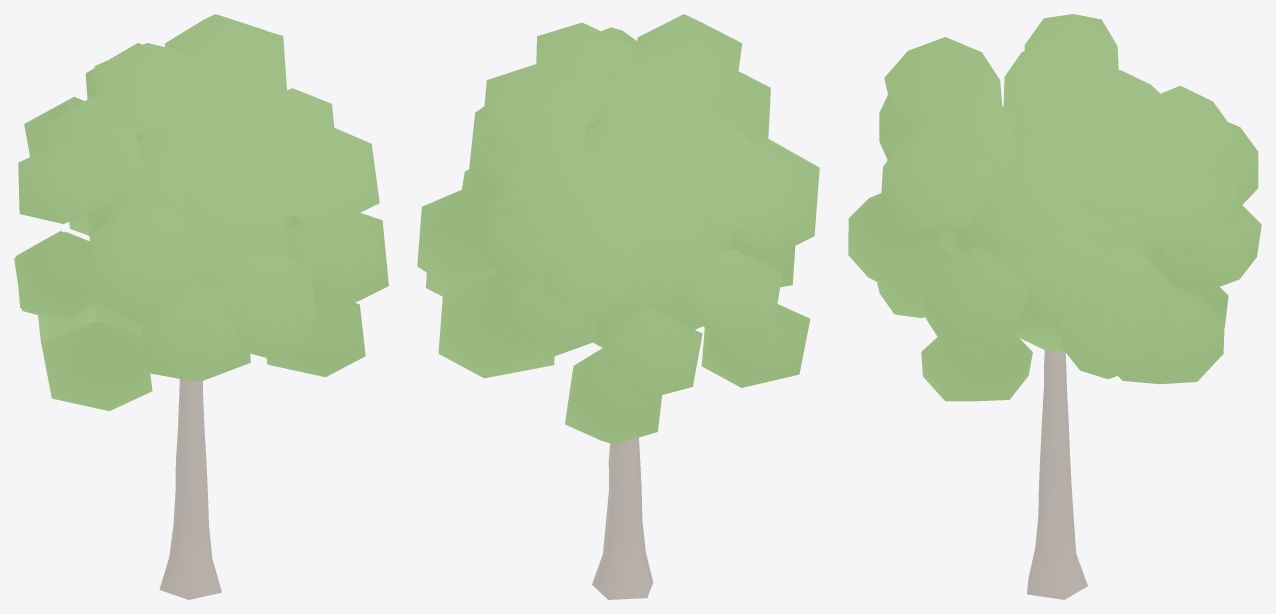
The model's file is Blender_LakeSugarMaple_1_Far.glb.
3 renders of one model, left to right at view 1: azimuth 30°, elevation 25°; view 2: azimuth 150°, elevation 25°; view 3: azimuth 270°, elevation 25°, orthographic.
Parts seen in each view (by area): view 1: Blender_LakeSugarMaple_1_Far; view 2: Blender_LakeSugarMaple_1_Far; view 3: Blender_LakeSugarMaple_1_Far.
Part boxes in pixels (<box>): Blender_LakeSugarMaple_1_Far: <box>14,14,388,599</box>; Blender_LakeSugarMaple_1_Far: <box>417,14,819,599</box>; Blender_LakeSugarMaple_1_Far: <box>848,14,1261,599</box>.
Bounding box in the file's own units: 13.73 × 21.51 × 14.3.
